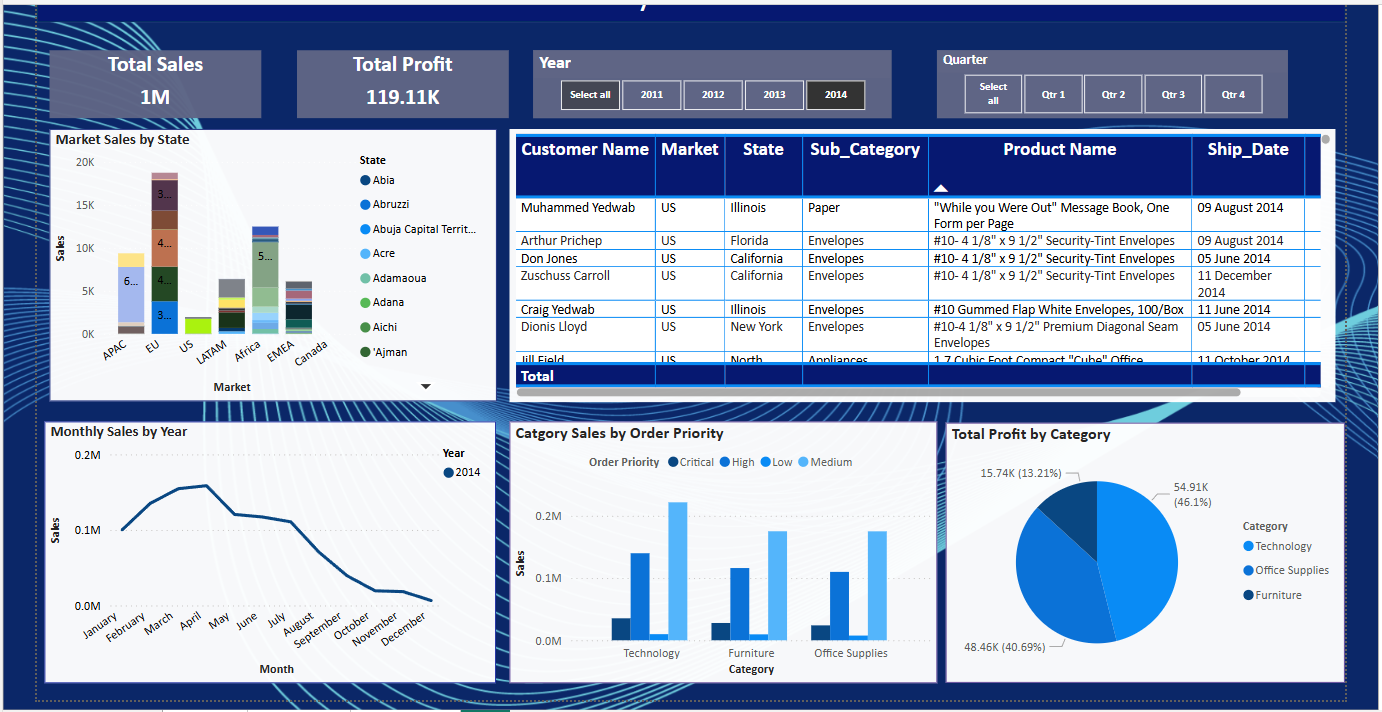

Layout of this report page (visuals, bound fields, positions):
{"tool":"powerbi","page":{"name":"SalesAnalysis","canvas":[1280,720],"ordinal":0},"visuals":[{"type":"card","title":"Total Sales","fields":{"Values":["SuperStoreOrders2.sales"]},"box":[12.8,84.9,207,66.3],"z":0},{"type":"card","title":"Total Profit","fields":{"Values":["SuperStoreOrders2.profit"]},"box":[254.7,84.9,207,66.3],"z":1000},{"type":"slicer","title":"Year","fields":{"Values":["SuperStoreOrders2.year"]},"box":[486,84.9,350,66.3],"z":2000},{"type":"tableEx","fields":{"Values":["SuperStoreOrders2.customer_name","SuperStoreOrders2.market","SuperStoreOrders2.state","SuperStoreOrders2.sub_category","SuperStoreOrders2.product_name","SuperStoreOrders2.ship_date","SuperStoreOrders2.sales"]},"box":[462,161.1,807.9,267],"z":3000},{"type":"columnChart","title":"Market Sales by State","fields":{"Y":["SuperStoreOrders2.sales"],"Category":["SuperStoreOrders2.market"],"Series":["SuperStoreOrders2.state"]},"box":[12.3,161.9,437.7,266.2],"z":4000},{"type":"lineChart","title":"Monthly Sales by Year","fields":{"Y":["SuperStoreOrders2.sales"],"Series":["SuperStoreOrders2.order_date.Variation.Date Hierarchy.Year"],"Category":["SuperStoreOrders2.order_date.Variation.Date Hierarchy.Month"]},"box":[7.9,447.3,441.7,255.8],"z":5000},{"type":"slicer","title":"Quarter","fields":{"Values":["SuperStoreOrders2.order_date.Variation.Date Hierarchy.Quarter"]},"box":[880.2,84.9,343,66.3],"z":6000},{"type":"clusteredColumnChart","title":"Catgory Sales by Order Priority","fields":{"Category":["SuperStoreOrders2.category"],"Y":["SuperStoreOrders2.sales"],"Series":["SuperStoreOrders2.order_priority"]},"box":[461.6,447.7,418.6,255.8],"z":7000},{"type":"pieChart","title":"Total Profit by Category","fields":{"Category":["SuperStoreOrders2.category"],"Y":["SuperStoreOrders2.profit"]},"box":[889.5,448.8,390.7,254.7],"z":8000},{"type":"shape","box":[0,0,1280.2,57],"z":9000},{"type":"textbox","title":"Sales Analysis Dashboard","box":[372.1,9.3,493,38.4],"z":10000}]}

Visuals, with their boxes in screenshot pixels (x1, y1, x2, y2):
"Total Sales" card: {"x1": 53, "y1": 54, "x2": 262, "y2": 121}
"Total Profit" card: {"x1": 297, "y1": 54, "x2": 507, "y2": 121}
"Year" slicer: {"x1": 531, "y1": 54, "x2": 886, "y2": 121}
tableEx - SuperStoreOrders2.customer_name x SuperStoreOrders2.market: {"x1": 507, "y1": 131, "x2": 1325, "y2": 401}
"Market Sales by State" columnChart: {"x1": 52, "y1": 131, "x2": 495, "y2": 401}
"Monthly Sales by Year" lineChart: {"x1": 48, "y1": 420, "x2": 495, "y2": 679}
"Quarter" slicer: {"x1": 930, "y1": 54, "x2": 1277, "y2": 121}
"Catgory Sales by Order Priority" clusteredColumnChart: {"x1": 507, "y1": 421, "x2": 930, "y2": 679}
"Total Profit by Category" pieChart: {"x1": 940, "y1": 422, "x2": 1335, "y2": 679}
shape: {"x1": 40, "y1": 0, "x2": 1335, "y2": 25}
"Sales Analysis Dashboard" textbox: {"x1": 416, "y1": 0, "x2": 915, "y2": 16}
